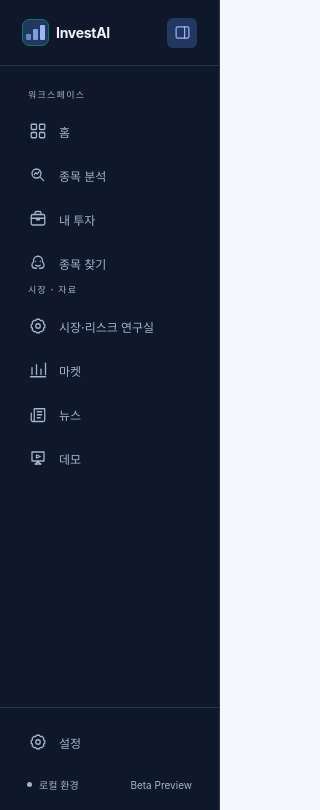
Scenario: Sidebar pinning › uses the required Korean pin and workspace labels
Click the button named "사이드바 고정 해제": (182, 32) [167,18,197,48]
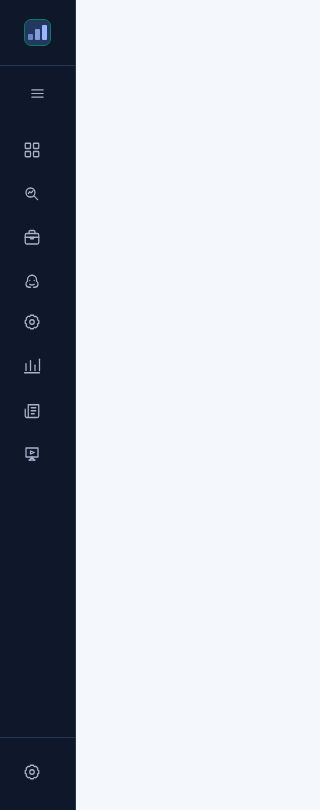
Focus the button named "워크스페이스 열기": (38, 93) [22,78,52,108]
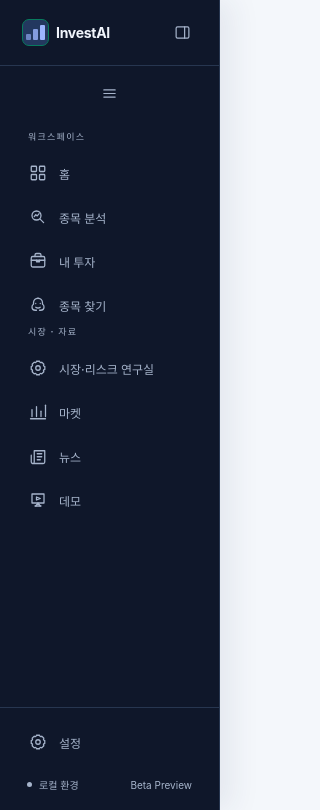
Check: the button named "워크스페이스 닫기" is shown, box [94,78,124,108]
Check: the button named "사이드바 고정" is shown, box [167,18,197,48]
